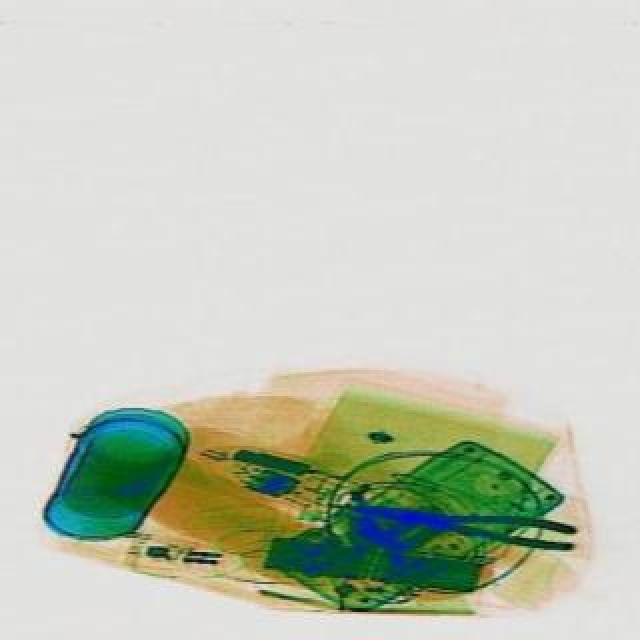wrench: (340, 490, 578, 552)
